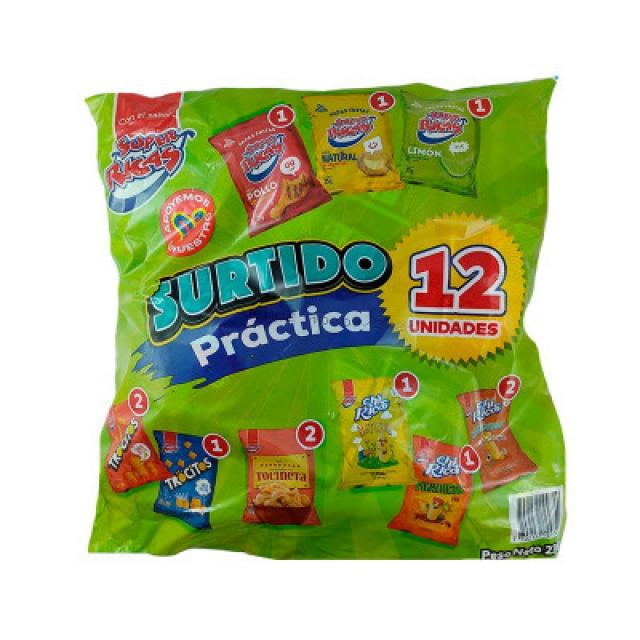Paquete: (83, 71, 564, 559)
